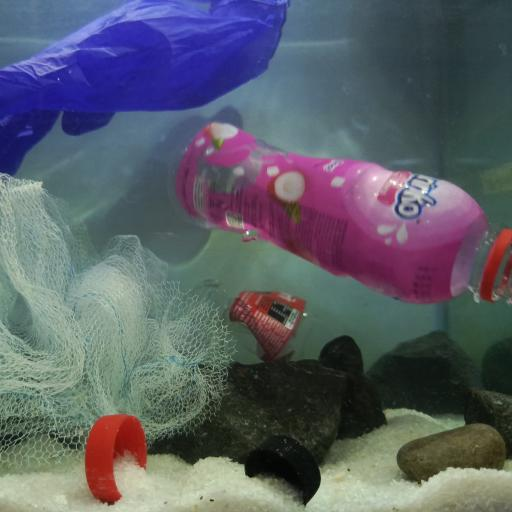bottle_cap: (86, 414, 148, 508), (244, 432, 322, 506)
glove: (0, 0, 292, 192)
net: (0, 170, 232, 469)
plastic_bottle: (168, 116, 512, 310), (188, 276, 348, 364)
